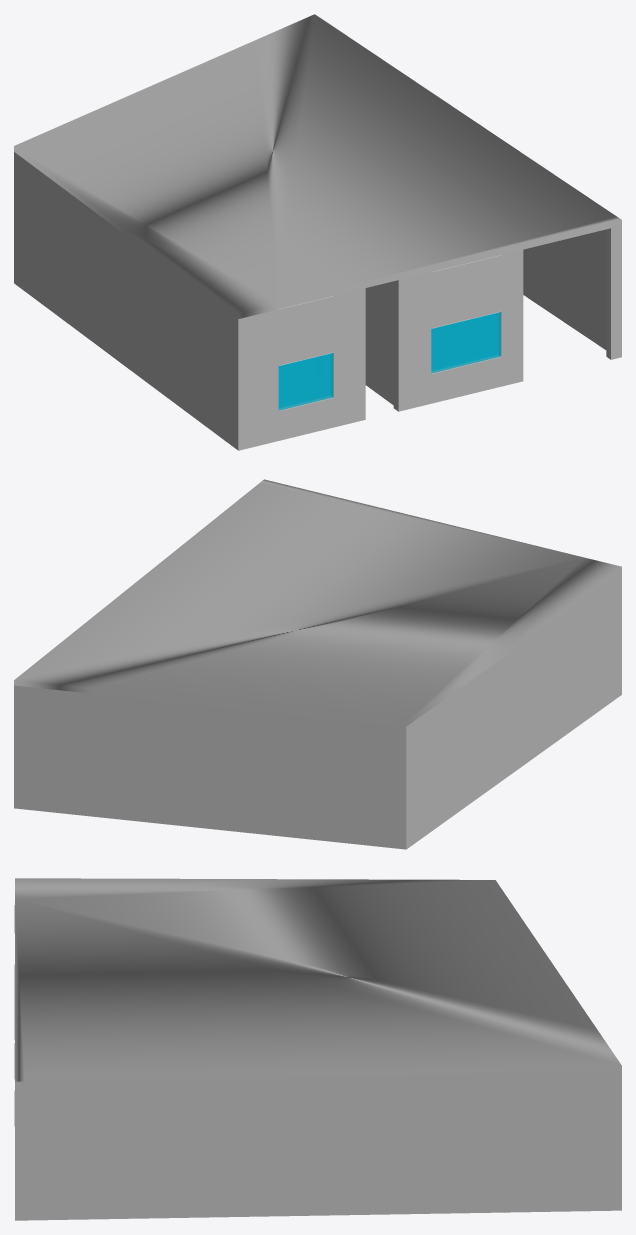
The model's file is f15921d8-dd75-4cbd-b719-437ed7acb86d.glb.
3 renders of one model, top to bottom at view 1: azimuth 30°, elevation 25°; view 2: azimuth 150°, elevation 25°; view 3: azimuth 270°, elevation 25°, orthographic. The views are drawn at different scales.
Parts seen in each view (by area): view 1: roof, walls, windows; view 2: roof, walls; view 3: roof, walls.
Boxes of the visible parts, x1,y1,x2,y2 form: roof: [14, 14, 621, 318]; walls: [14, 152, 621, 450]; windows: [278, 312, 501, 410]; roof: [14, 479, 621, 726]; walls: [14, 572, 621, 849]; roof: [15, 878, 621, 1081]; walls: [14, 905, 621, 1220].
Bounding box in the file's own units: 10.67 × 3.65 × 13.88.
